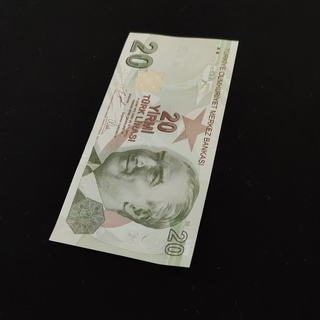20TLFront: (50, 31, 238, 268)
